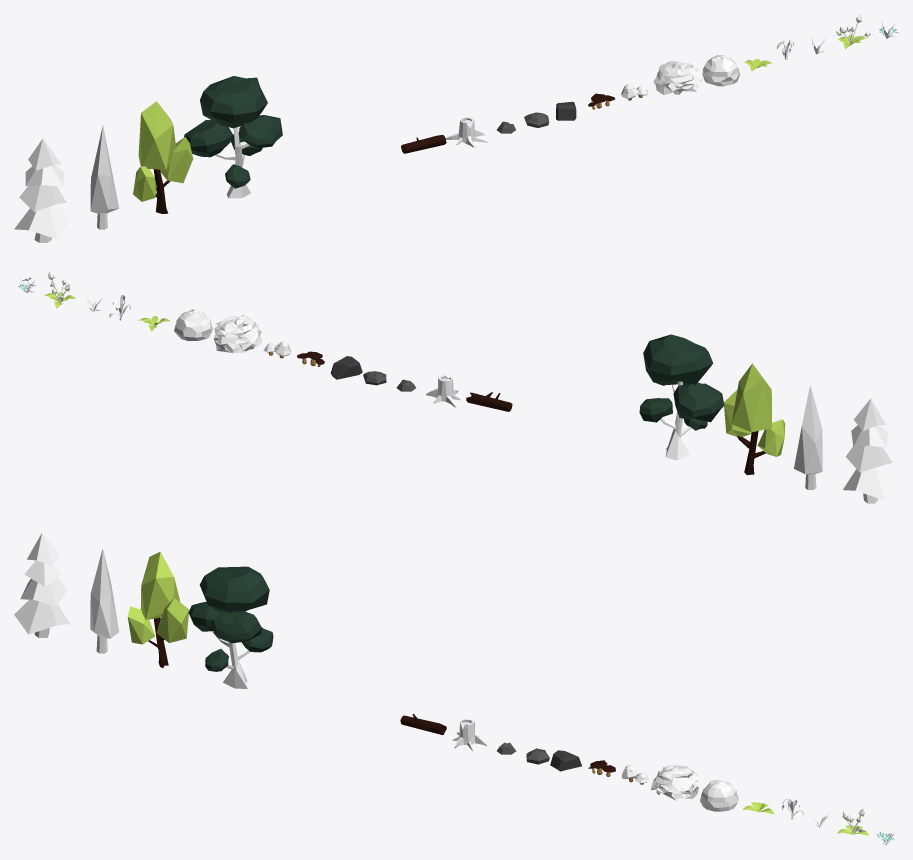
File: Low+poly+Nature+Pack+.glb
The picture shows the model from 3 angles, top to bottom: view 1: azimuth 30°, elevation 25°; view 2: azimuth 150°, elevation 25°; view 3: azimuth 330°, elevation 25°; orthographic projection.
Visible parts, largest first — view 1: Tree.004, Tree 003, Tree.001, Tree 002, Bush 1, Bush 2, Root, Log; view 2: Tree.004, Tree 003, Tree.001, Tree 002, Bush 1, Bush 2, Root, Stone 3, Log; view 3: Tree.004, Tree 003, Tree.001, Tree 002, Bush 1, Bush 2.
Boxes of the visible parts, box(x1,y1,x2,y2) form: Tree.004: box(184, 76, 282, 198); Tree 003: box(133, 101, 193, 213); Tree.001: box(14, 138, 71, 242); Tree 002: box(90, 125, 119, 229); Bush 1: box(653, 60, 702, 94); Bush 2: box(702, 55, 739, 86); Root: box(445, 117, 488, 147); Log: box(401, 135, 446, 153); Tree.004: box(639, 334, 723, 460); Tree 003: box(723, 363, 785, 475); Tree.001: box(843, 398, 898, 503); Tree 002: box(794, 385, 822, 489); Bush 1: box(214, 314, 262, 353); Bush 2: box(174, 309, 212, 340); Root: box(426, 375, 460, 407); Stone 3: box(331, 356, 362, 379); Log: box(466, 392, 512, 411); Tree.004: box(188, 566, 273, 688); Tree 003: box(127, 551, 189, 667); Tree.001: box(14, 532, 69, 637); Tree 002: box(90, 549, 118, 653); Bush 1: box(651, 765, 698, 800); Bush 2: box(700, 780, 738, 811).
Bounding box in the file's own units: 125 × 15.72 × 9.63.
